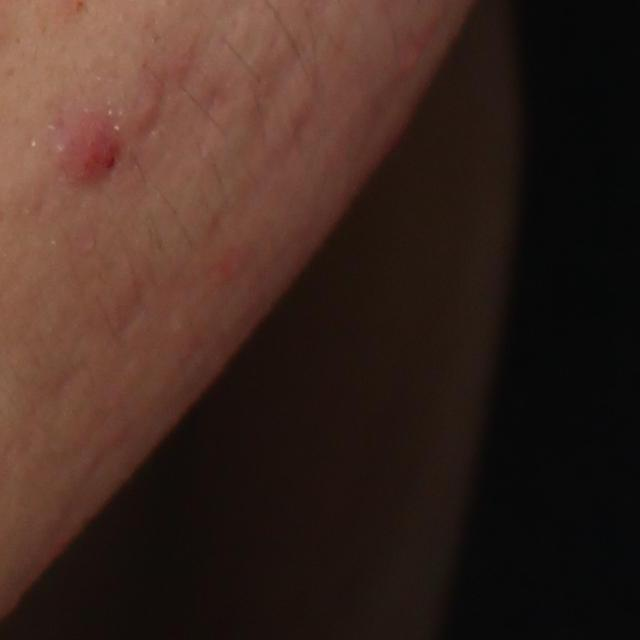papule: (48, 114, 131, 194), (130, 75, 166, 136)
